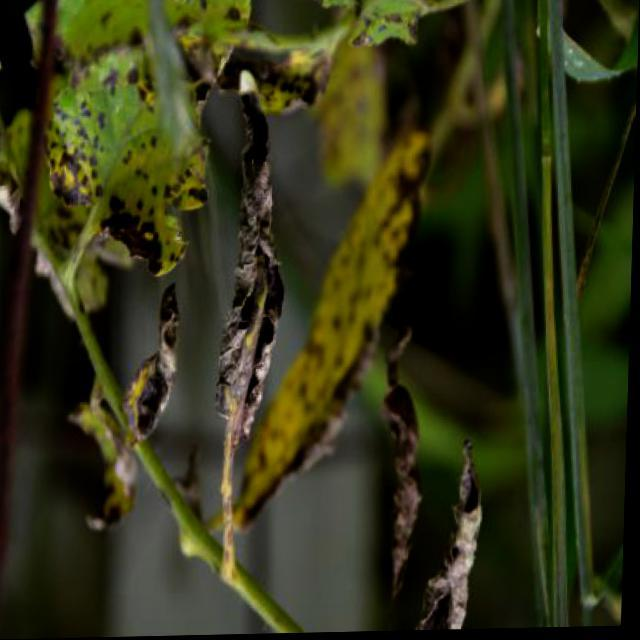Tomato Septoria spot leaf: (242, 143, 430, 529), (44, 0, 249, 275)
